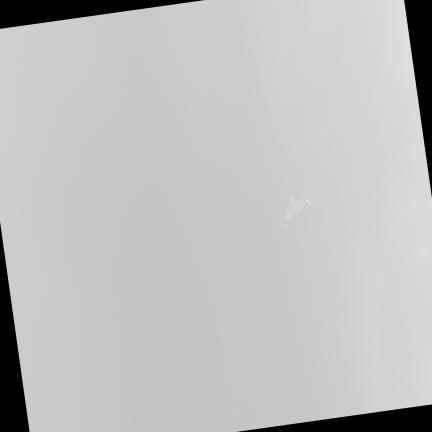Shahed: (281, 198, 310, 226)
